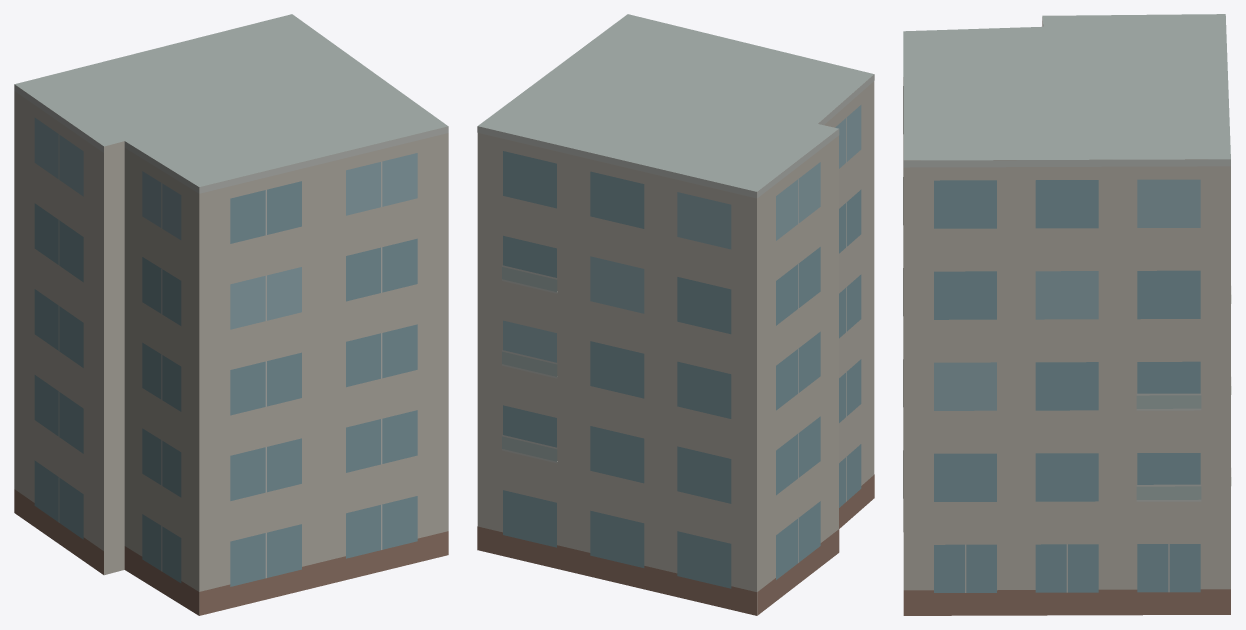
Rendered from survey-upis-32781212.glb.
3 renders of one model, left to right at view 1: azimuth 30°, elevation 25°; view 2: azimuth 150°, elevation 25°; view 3: azimuth 270°, elevation 25°, orthographic. The views are drawn at different scales.
Visible parts, largest first — view 1: survey-upis-32781212.tmp; view 2: survey-upis-32781212.tmp; view 3: survey-upis-32781212.tmp.
Boxes of the visible parts, x1,y1,x2,y2 form: survey-upis-32781212.tmp: [14, 14, 448, 615]; survey-upis-32781212.tmp: [477, 14, 874, 615]; survey-upis-32781212.tmp: [903, 14, 1231, 615].
Size of the model in its own units: 10.83 by 15.7 by 10.27.
